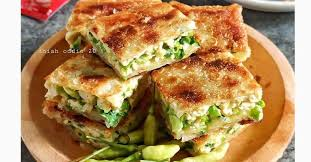Martabak telur: (41, 47, 142, 142), (157, 52, 263, 142), (92, 4, 199, 80)
